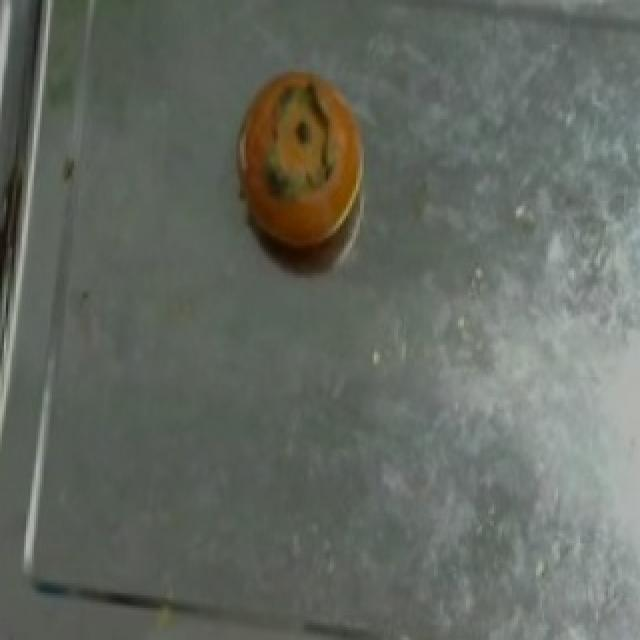Fruit: (226, 52, 382, 268)
